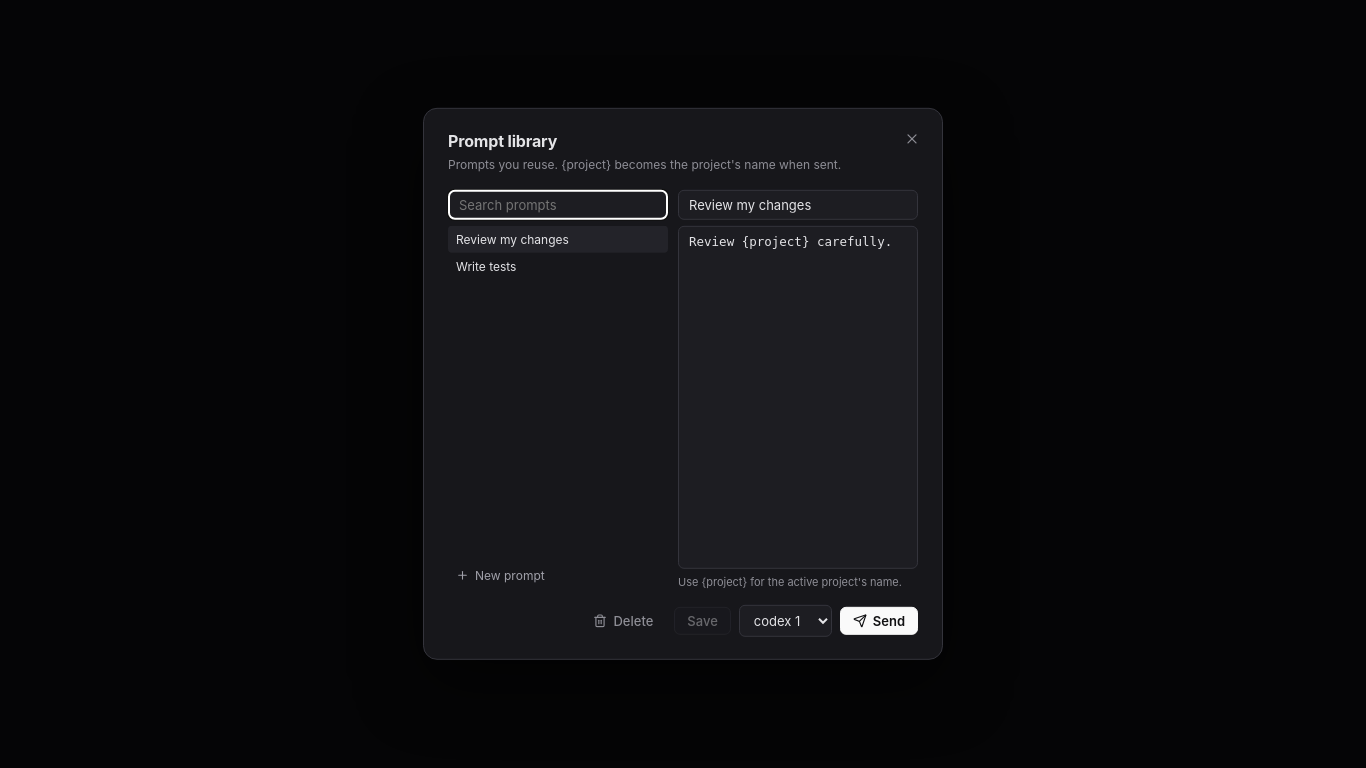
Scenario: PromptLibraryDialog › Given a selected prompt, when editing and saving it, then the store keeps the new text
Click the button "Write tests": (558, 266) [448, 253, 668, 280]
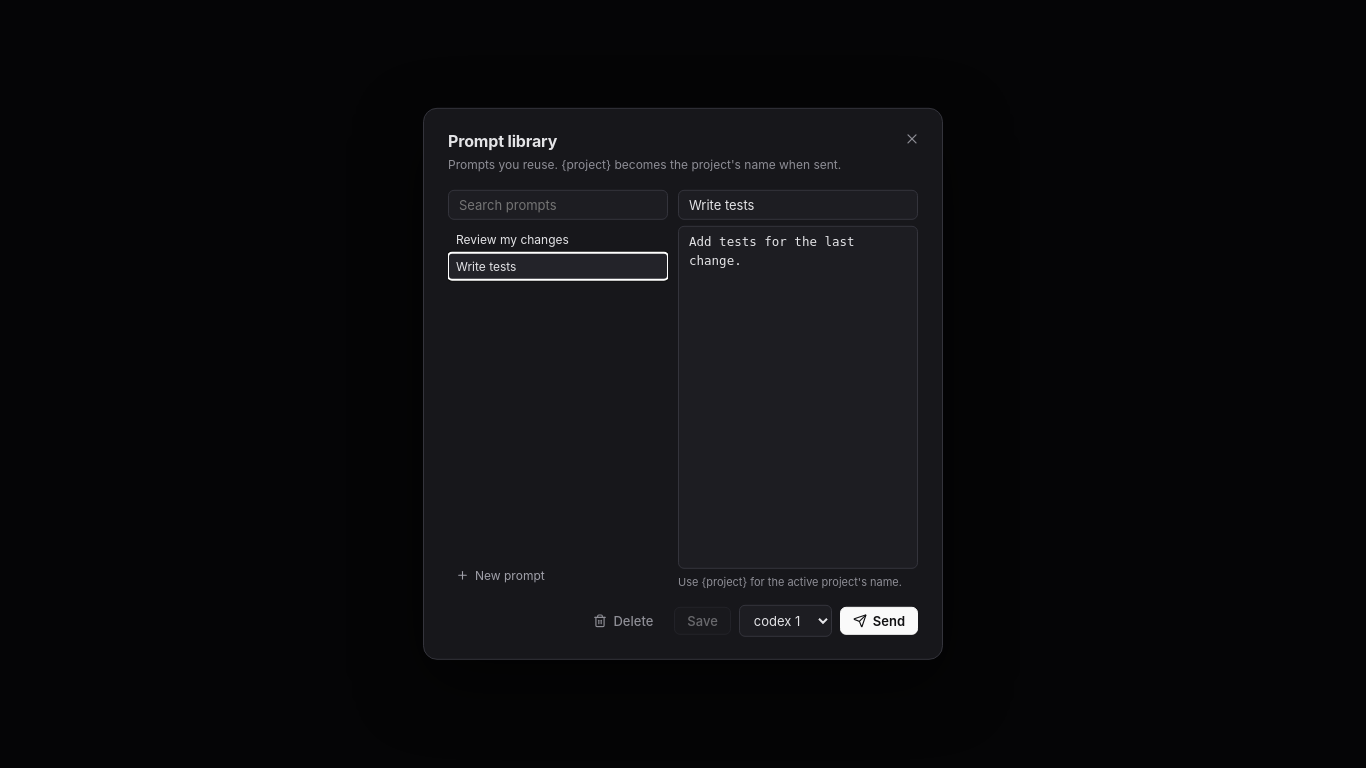
Expected: the text box named "Prompt" holds "Add tests for the last change."
In the text box named "Prompt": (798, 398) [678, 226, 918, 569], type " Run them."
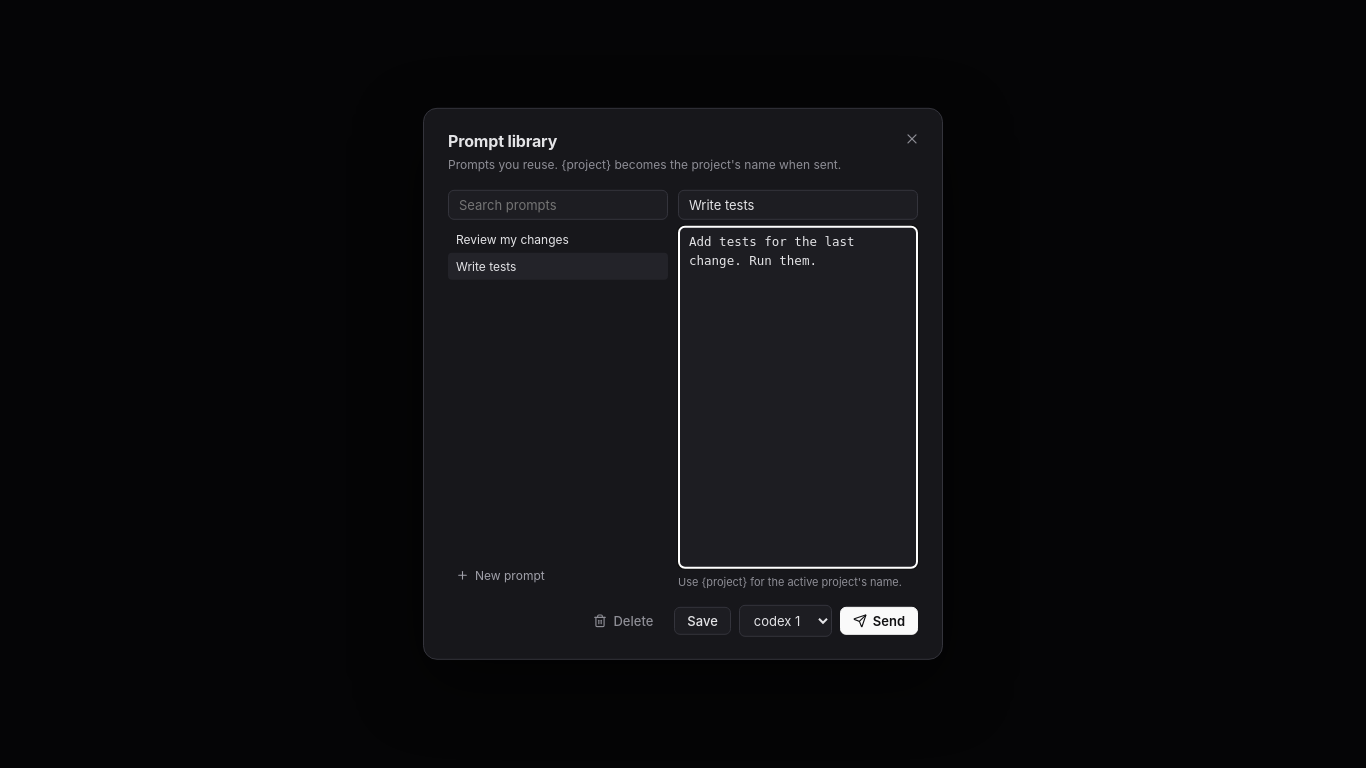
Click the button "Save": (702, 621) [674, 607, 731, 635]
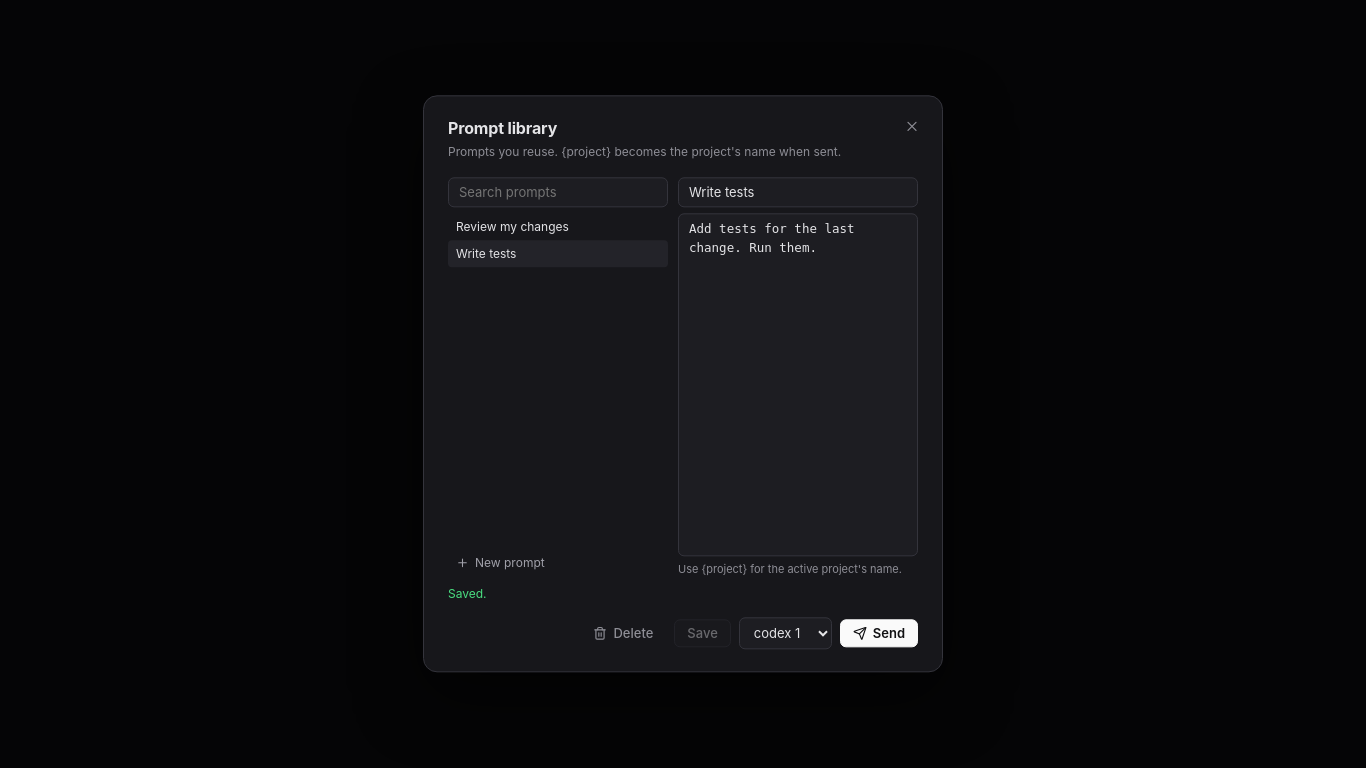
Expected: the message reads "Saved.", [448, 587, 487, 602]
Expected: the button "Save" is disabled, [674, 620, 731, 648]
